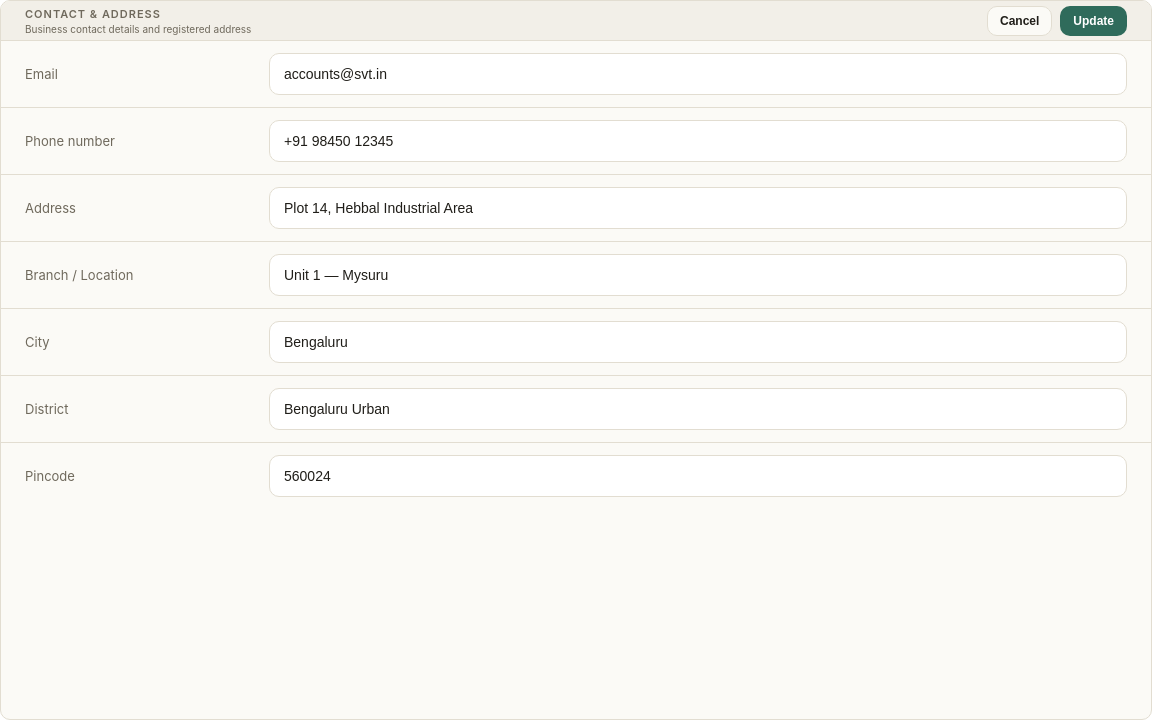
Test: ContactSection — edit mode › prefills the org values and reverts on Cancel
This screenshot has width=1152, height=720.
Replace the text in the field showing "accounts@svt.in" in the row of "Email" with "billing@svt.in" at (698, 74), box [269, 53, 1127, 95]
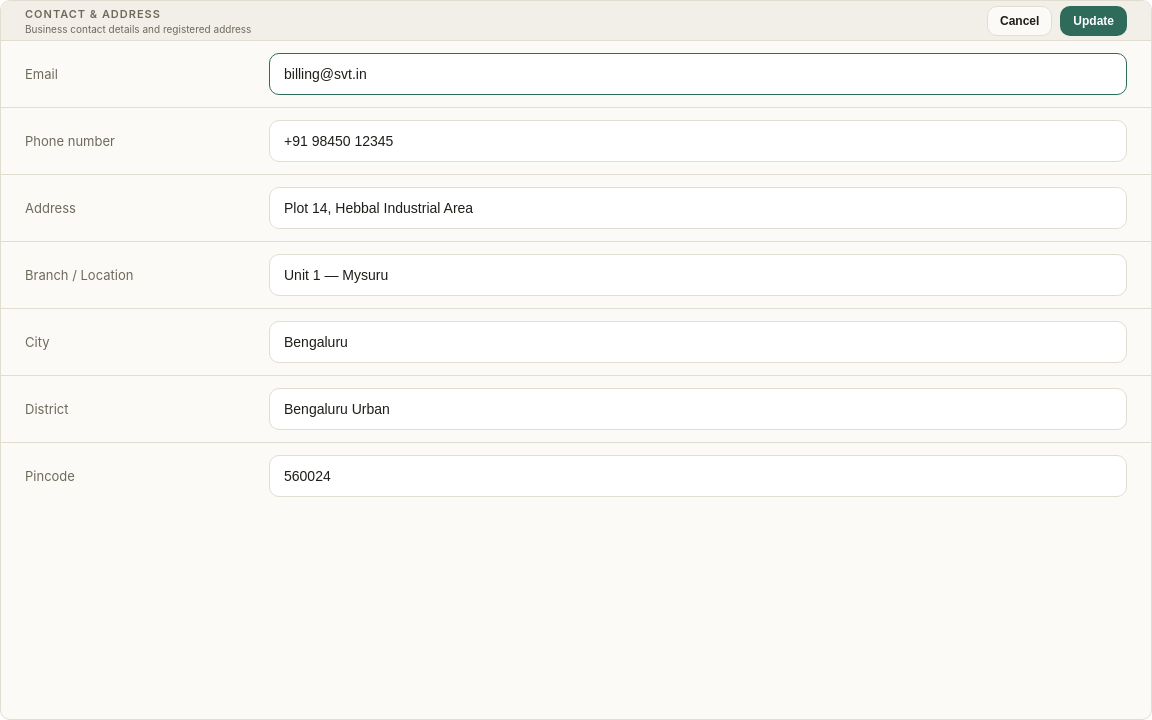
Click the button "Cancel" at (1020, 20), box [987, 6, 1052, 36]
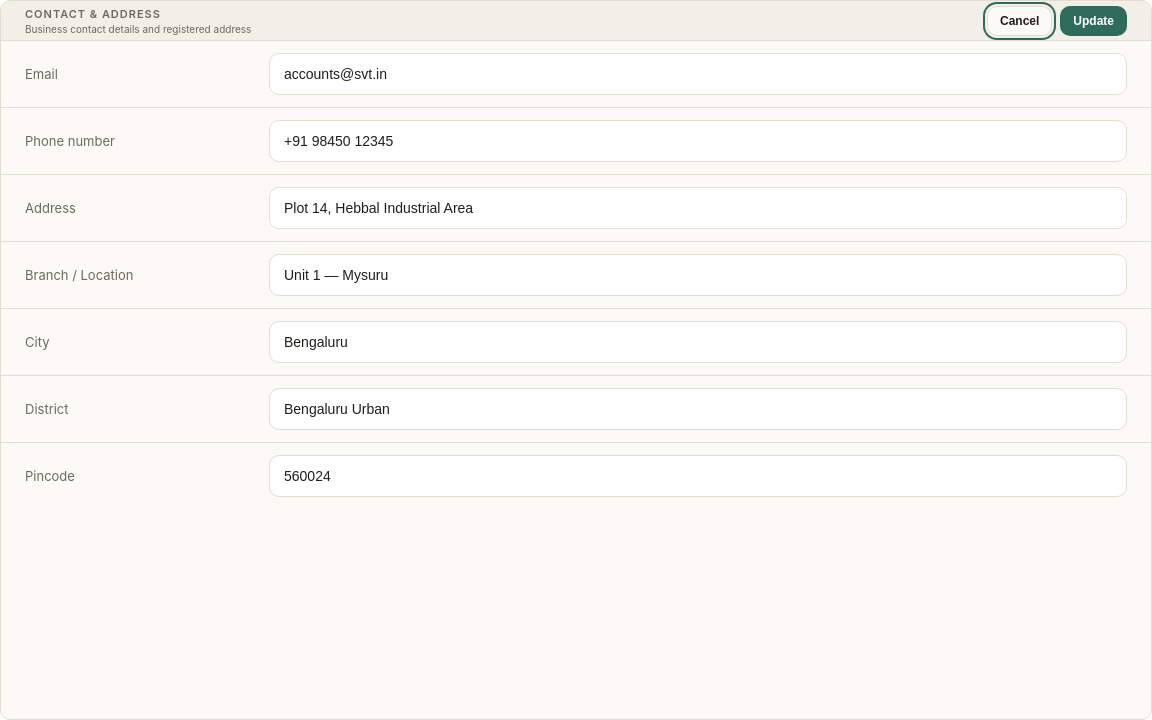
Now the field showing "accounts@svt.in" in the row of "Email" is shown, box [269, 53, 1127, 95]
